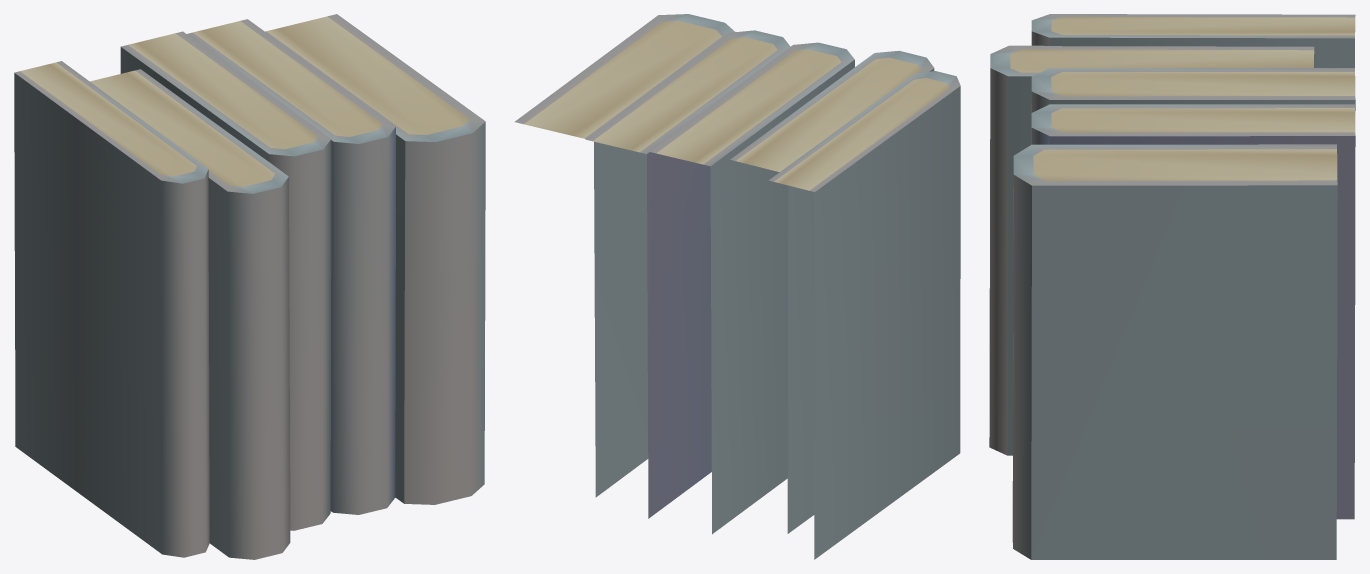
Rendered from BookGroup_Small_3.glb.
3 views of the same model, side by side, from view 1: azimuth 30°, elevation 25°; view 2: azimuth 150°, elevation 25°; view 3: azimuth 270°, elevation 25° (orthographic). The views are drawn at different scales.
Visible parts, largest first — view 1: BookGroup_Small_3; view 2: BookGroup_Small_3; view 3: BookGroup_Small_3.
Boxes of the visible parts, box(x1,y1,x2,y2) form: BookGroup_Small_3: box(14, 14, 485, 559); BookGroup_Small_3: box(515, 14, 960, 559); BookGroup_Small_3: box(989, 14, 1355, 559).
Bounding box in the file's own units: 0.2448 × 0.2774 × 0.2372.
